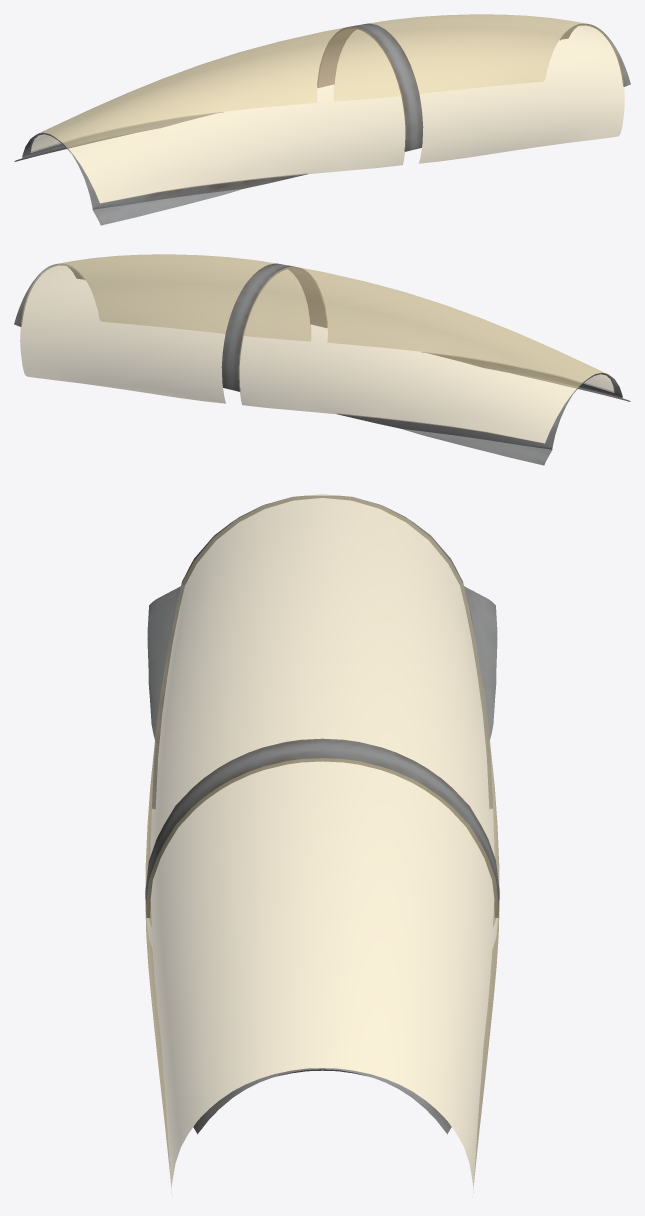
The model's file is escape_canopy.glb.
The picture shows the model from 3 angles, top to bottom: view 1: azimuth 30°, elevation 25°; view 2: azimuth 150°, elevation 25°; view 3: azimuth 270°, elevation 25°; orthographic projection. The views are drawn at different scales.
Parts seen in each view (by area): view 1: F18-canopy_1, HornetCanopyFrameMesh; view 2: F18-canopy_1, HornetCanopyFrameMesh; view 3: F18-canopy_1, HornetCanopyFrameMesh.
Boxes of the visible parts, box(x1,y1,x2,y2) form: F18-canopy_1: box(31, 14, 624, 203); HornetCanopyFrameMesh: box(14, 23, 630, 225); F18-canopy_1: box(20, 254, 613, 443); HornetCanopyFrameMesh: box(14, 263, 630, 465); F18-canopy_1: box(145, 494, 499, 1196); HornetCanopyFrameMesh: box(145, 495, 499, 1134).
Size of the model in its own units: 32.18 by 7.39 by 9.09.
Materials: 2 (1 with a texture image).
